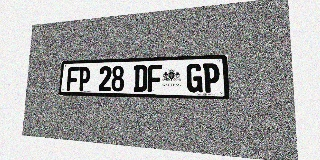2: (98, 66, 112, 91)
8: (111, 66, 125, 91)
D: (133, 65, 147, 92)
F: (147, 65, 162, 92), (66, 67, 79, 91)
G: (186, 63, 202, 92)
P: (203, 63, 220, 93), (78, 67, 90, 91)
